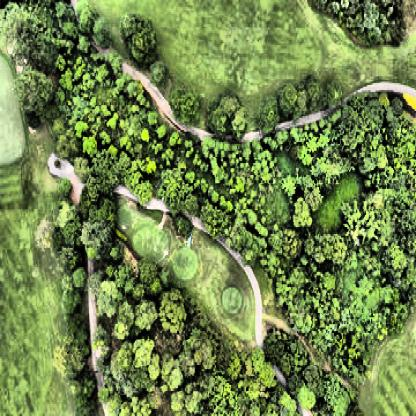tree-top: (341, 99, 382, 174), (0, 11, 45, 63), (16, 69, 55, 127), (72, 149, 112, 202), (228, 206, 264, 262), (336, 329, 374, 381), (264, 325, 302, 376), (56, 320, 88, 379), (121, 13, 158, 64), (115, 335, 160, 376), (344, 197, 380, 247), (158, 169, 196, 216), (46, 5, 80, 54), (160, 287, 198, 330), (210, 92, 245, 138), (204, 376, 242, 416), (81, 218, 113, 264), (190, 332, 218, 377), (268, 225, 300, 263), (382, 238, 412, 278), (173, 84, 202, 125), (395, 182, 416, 236), (200, 199, 228, 239), (314, 145, 338, 190), (382, 292, 409, 332), (248, 350, 276, 388), (320, 230, 349, 266), (69, 372, 98, 408), (94, 280, 120, 320), (323, 377, 349, 416), (301, 71, 326, 110), (278, 82, 303, 120), (256, 92, 281, 130), (287, 197, 315, 230), (136, 292, 159, 330), (294, 382, 322, 410), (114, 301, 133, 341), (139, 261, 160, 297), (200, 132, 225, 162), (163, 351, 180, 394), (263, 128, 289, 156), (207, 154, 229, 186), (254, 152, 277, 182), (120, 149, 139, 183), (92, 15, 110, 49), (93, 327, 110, 363), (226, 350, 245, 382), (62, 218, 82, 248), (173, 212, 195, 239), (149, 59, 170, 87), (138, 173, 156, 205), (108, 240, 128, 268), (128, 392, 150, 416), (78, 133, 100, 156), (62, 291, 80, 319), (324, 78, 343, 104), (72, 265, 89, 294), (56, 67, 74, 93), (76, 3, 92, 32), (282, 172, 298, 200), (276, 388, 292, 416), (141, 157, 159, 176), (391, 93, 404, 119), (168, 130, 184, 151), (73, 120, 88, 142), (95, 62, 110, 82), (105, 110, 119, 130), (157, 122, 169, 141), (181, 139, 194, 156), (140, 128, 151, 144), (148, 110, 159, 125)
